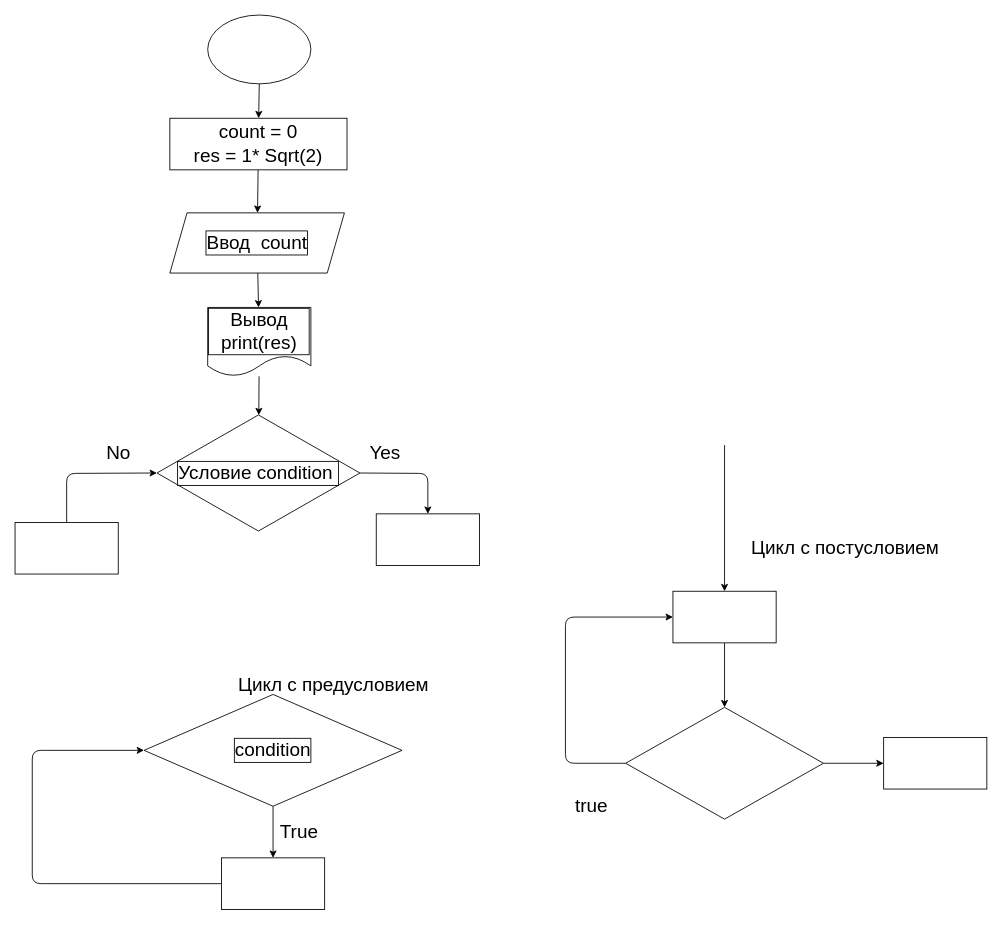
This 1002x925 diagram has some shape labels left out. The box of each missing label's shape, as (x1, y1, x2, y2) in pixels:
false: (625, 706, 823, 819)
Start END: (207, 14, 311, 84)
